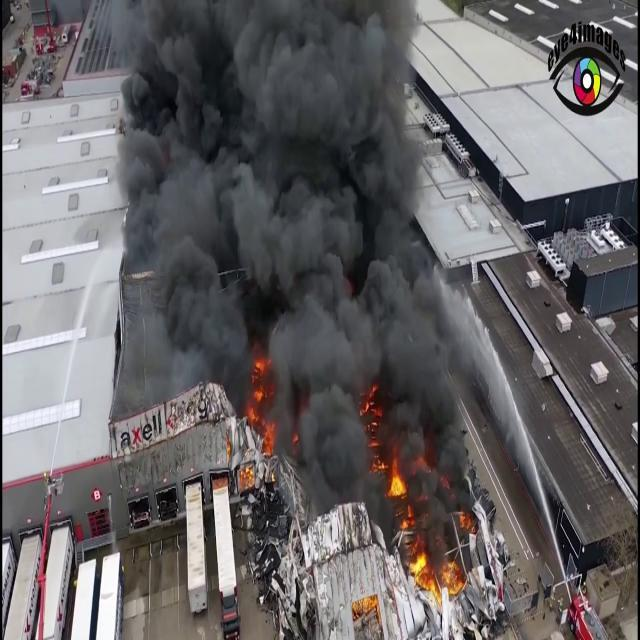Fire: (244, 364, 282, 459)
Smoke: (101, 1, 487, 525)
